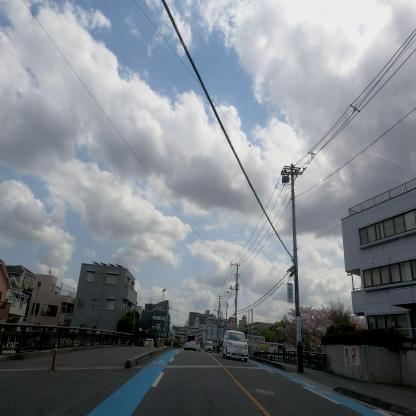Someiyoshino: (279, 300, 370, 358)
